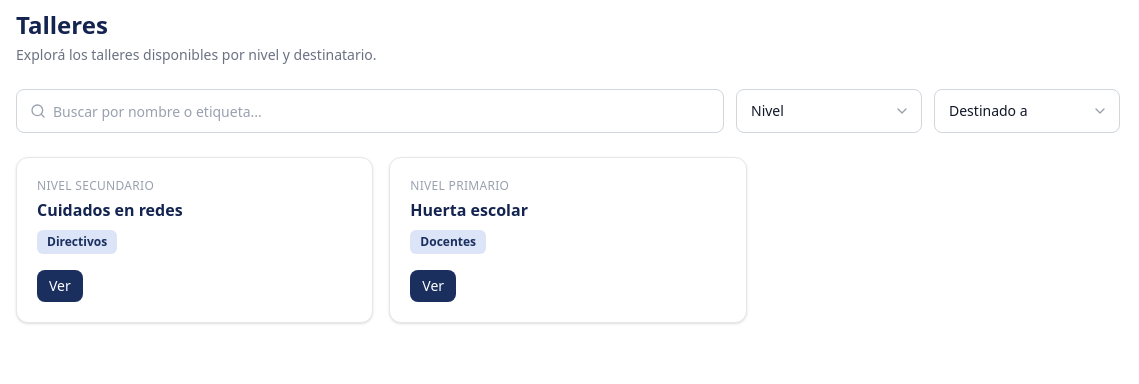
it: TalleresCatalogoPage: filtros › combina nivel y destinatario: sin coincidencias muestra "sin resultados"
Expected: the heading "Cuidados en redes" is shown, [37,199,183,221]
Select "Primario" in the 1st dropdown named "Nivel": (829,111) [736,89,922,133]
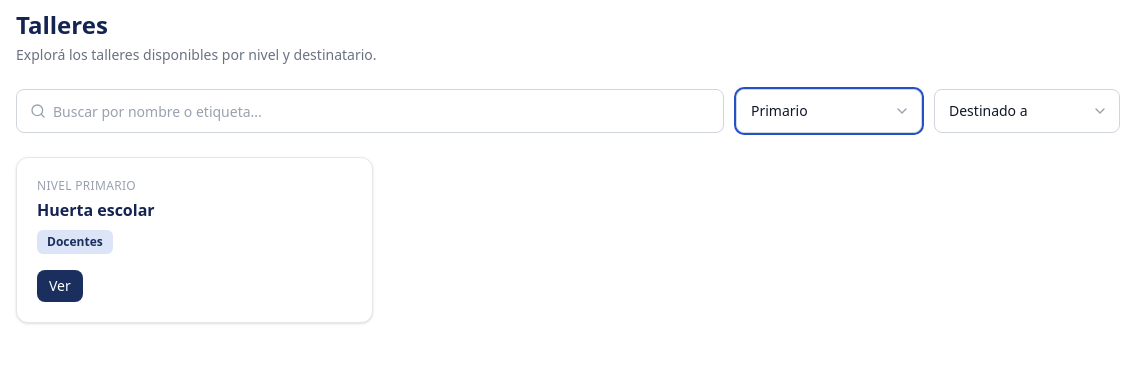
Select "Directivos" in the 2nd dropdown named "Destinado a": (1027,111) [934,89,1120,133]
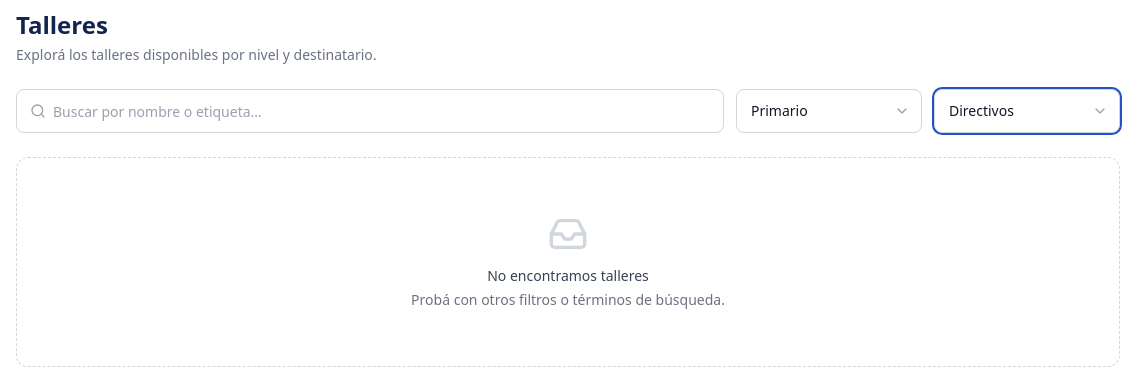
Expected: the text "No encontramos talleres" is shown, [487,266,649,286]
